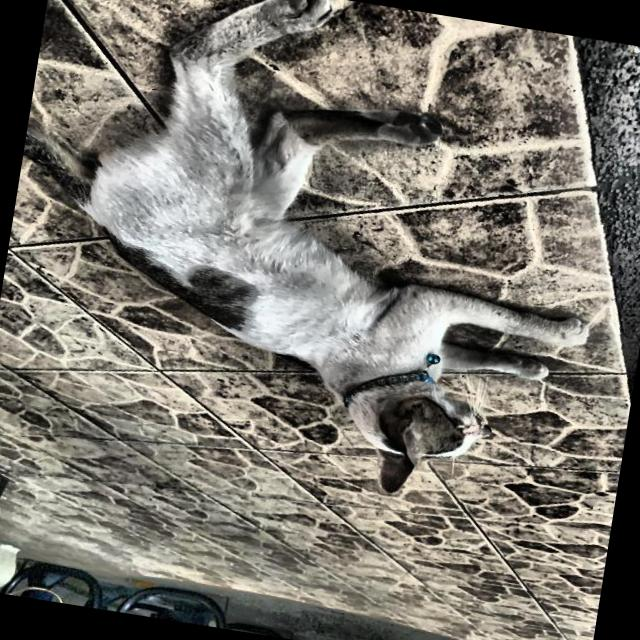Healthy skin: (225, 36, 454, 176), (201, 257, 375, 346)
